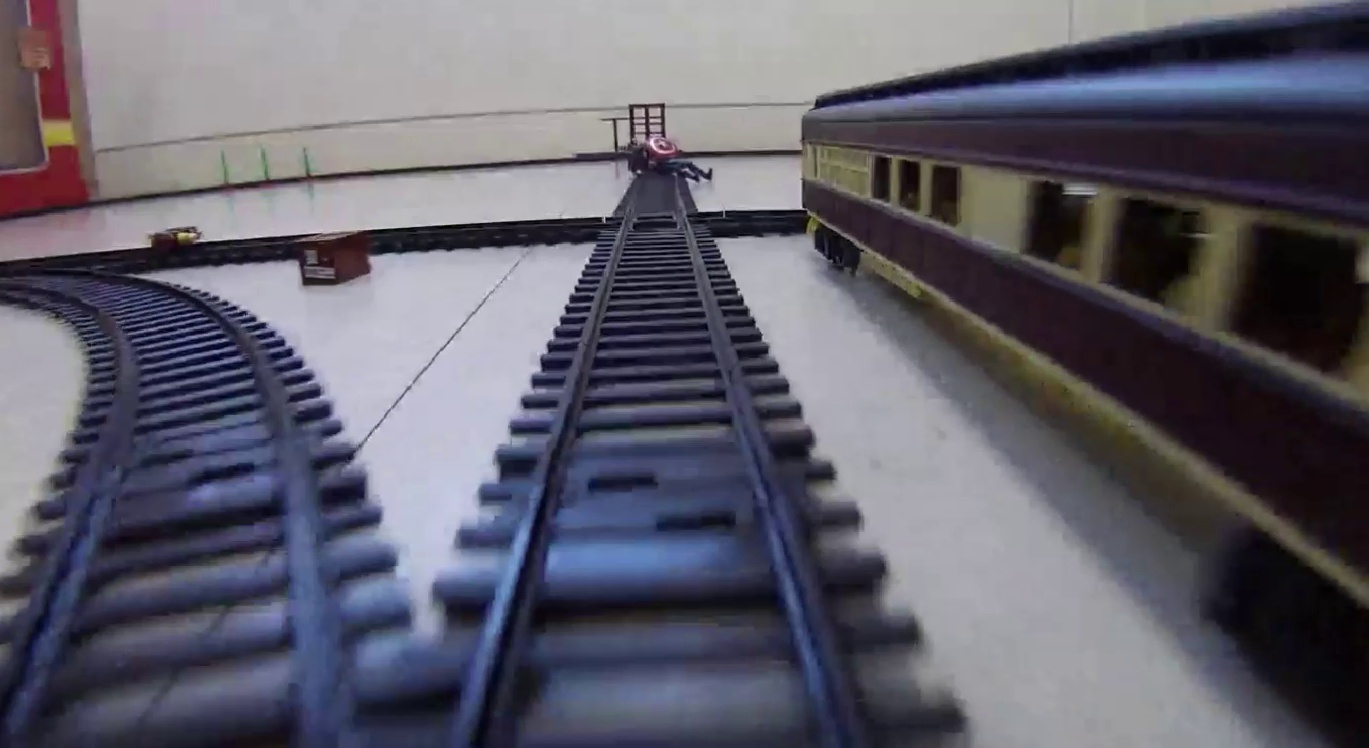box: (295, 234, 371, 284)
people: (616, 137, 715, 183)
